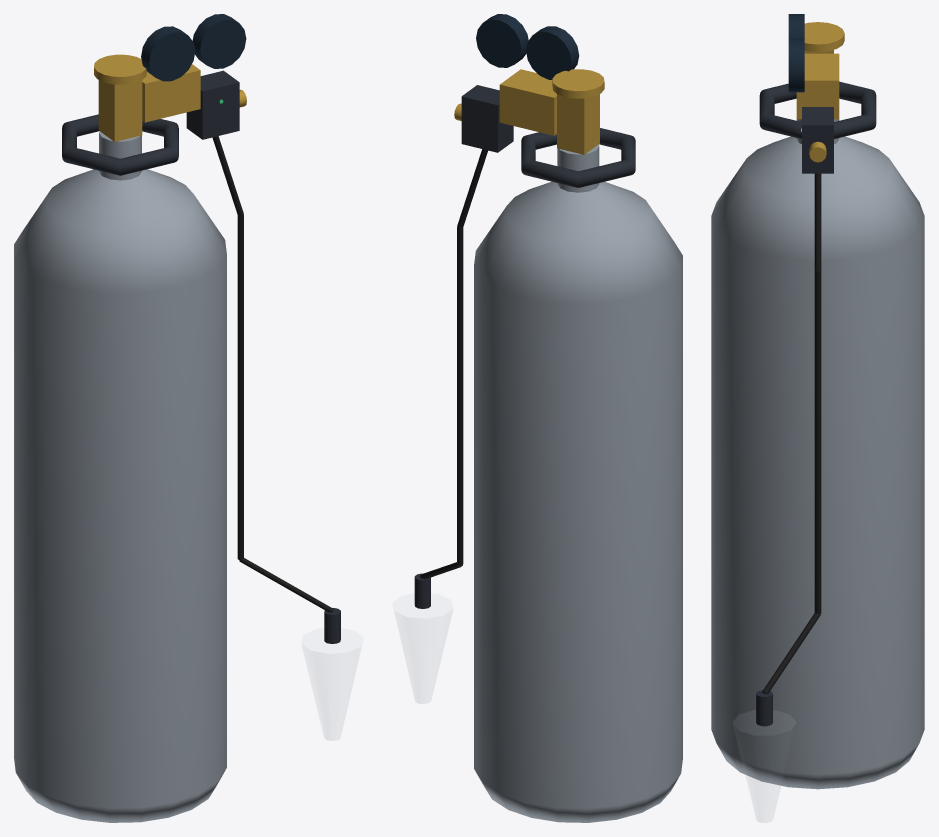
The model's file is co2-source--tank.glb.
The picture shows the model from 3 angles, left to right: view 1: azimuth 30°, elevation 25°; view 2: azimuth 150°, elevation 25°; view 3: azimuth 270°, elevation 25°; orthographic projection.
Parts seen in each view (by area): view 1: tank_body, co2_tubing, tank_handle, solenoid_body, tank_valve, regulator_body, gauge_1, gauge_2, tank_handwheel, tank_neck; view 2: tank_body, tank_handle, co2_tubing, regulator_body, solenoid_body, tank_valve, gauge_2, gauge_1, tank_handwheel, tank_neck, co2_diffuser; view 3: tank_body, co2_tubing, tank_handle, regulator_body, solenoid_body, tank_handwheel, gauge_2, co2_diffuser, gauge_1.
Boxes of the visible parts, box(x1,y1,x2,y2) form: tank_body: box(14, 169, 226, 822); co2_tubing: box(212, 136, 333, 612); tank_handle: box(62, 114, 178, 175); solenoid_body: box(186, 70, 239, 139); tank_valve: box(98, 80, 142, 141); regulator_body: box(142, 64, 200, 122); gauge_1: box(141, 26, 195, 81); gauge_2: box(192, 14, 246, 68); tank_handwheel: box(94, 54, 146, 84); tank_neck: box(99, 131, 141, 180); tank_body: box(474, 181, 682, 822); tank_handle: box(521, 128, 635, 187); co2_tubing: box(420, 149, 487, 579); regulator_body: box(499, 69, 556, 135); solenoid_body: box(461, 85, 513, 152); tank_valve: box(557, 94, 599, 154); gauge_2: box(476, 14, 528, 67); gauge_1: box(526, 26, 579, 79); tank_handwheel: box(552, 69, 604, 98); tank_neck: box(557, 144, 599, 192); co2_diffuser: box(414, 573, 430, 608); tank_body: box(711, 136, 924, 789); co2_tubing: box(762, 173, 821, 694); tank_handle: box(759, 81, 876, 138); regulator_body: box(796, 53, 839, 119); solenoid_body: box(802, 107, 833, 173); tank_handwheel: box(804, 22, 844, 52); gauge_2: box(788, 38, 804, 92); co2_diffuser: box(756, 690, 772, 726); gauge_1: box(788, 14, 804, 38).
Size of the model in its own units: 0.3285 by 0.775 by 0.2.
